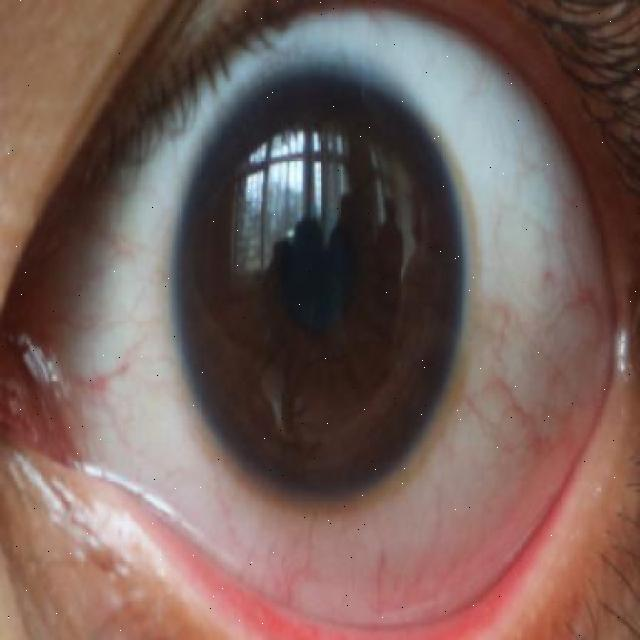Normal: (169, 66, 466, 500)
